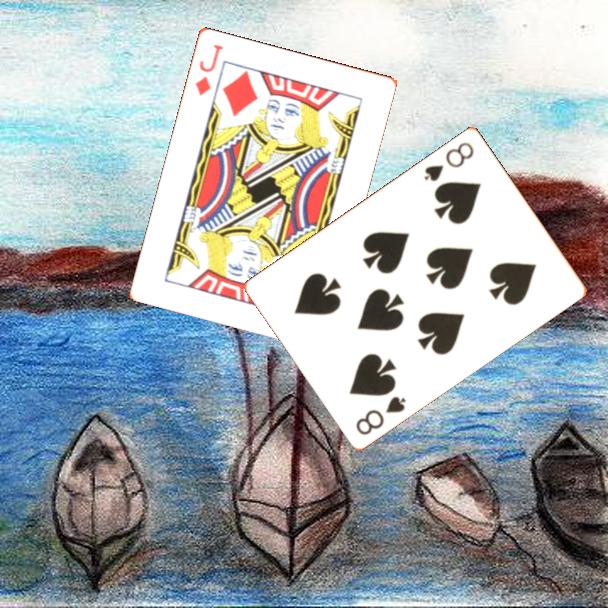d11: (191, 40, 226, 98)
s08: (420, 138, 477, 184), (352, 392, 409, 438)
